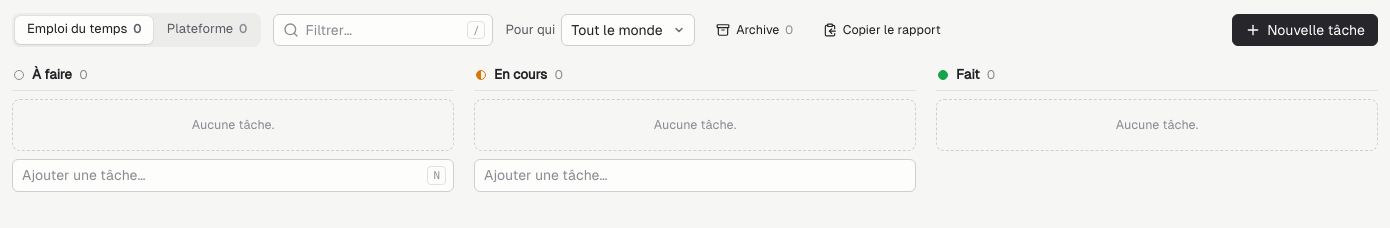
Test: KanbanView › creates a card from the quick-add field with Enter, in that column and the open tab
Expected: the text "Aucune tâche." below "À faire" is shown, [192,117,274,132]
In the field named "Ajouter une tâche dans En cours": (695, 175) [474,159,916,192], type "Relancer la scolarité"
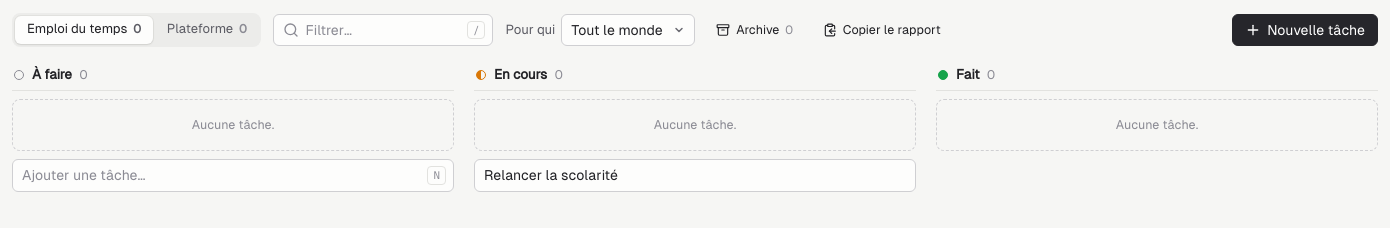
Submit the form named "Ajouter une tâche dans En cours", box [474,159,916,192]
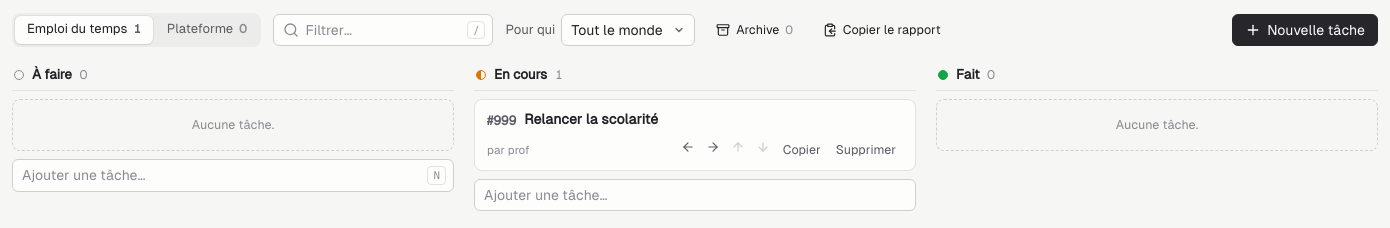
Expected: the button "Relancer la scolarité" is shown, [524,110,903,129]
Expected: the field named "Ajouter une tâche dans En cours" is empty, [474,179,916,211]
